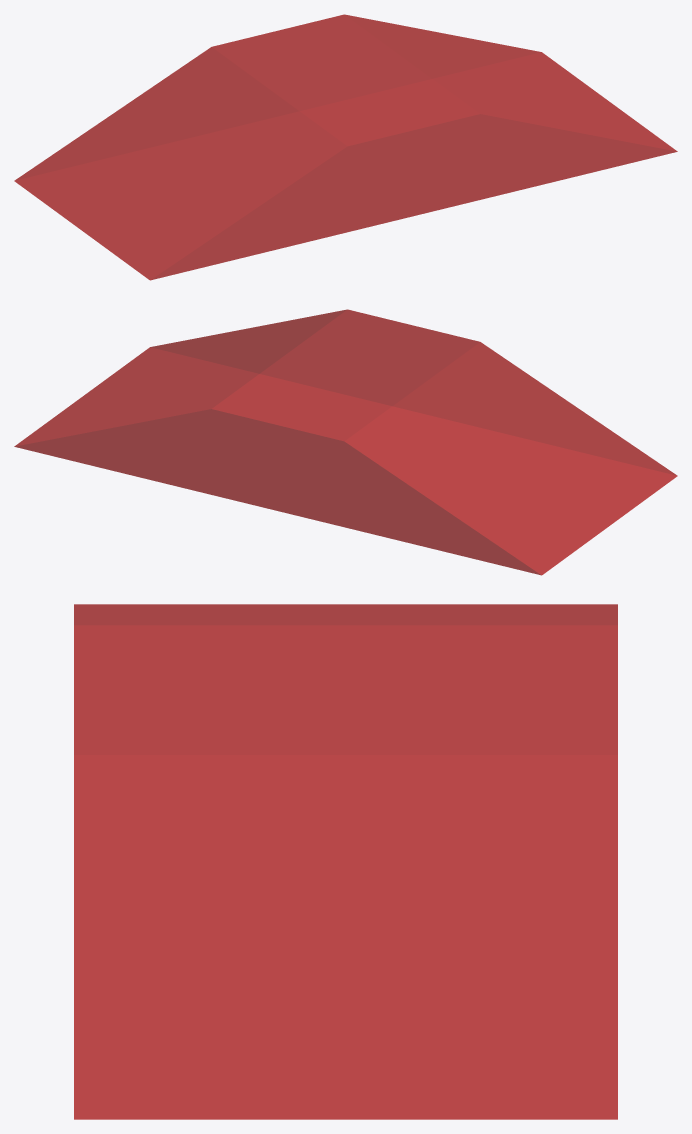
Rendered from SM_Prop_Ramp_03_Collision.fbx.
The picture shows the model from 3 angles, top to bottom: view 1: azimuth 30°, elevation 25°; view 2: azimuth 150°, elevation 25°; view 3: azimuth 270°, elevation 25°; orthographic projection. The views are drawn at different scales.
Visible parts, largest first — view 1: SM_Prop_Ramp_03_Collision; view 2: SM_Prop_Ramp_03_Collision; view 3: SM_Prop_Ramp_03_Collision.
Boxes of the visible parts, <box> form: SM_Prop_Ramp_03_Collision: <box>14,14,677,280</box>; SM_Prop_Ramp_03_Collision: <box>14,309,677,575</box>; SM_Prop_Ramp_03_Collision: <box>74,604,617,1119</box>.
Bounding box in the file's own units: 168 × 26.13 × 75.
